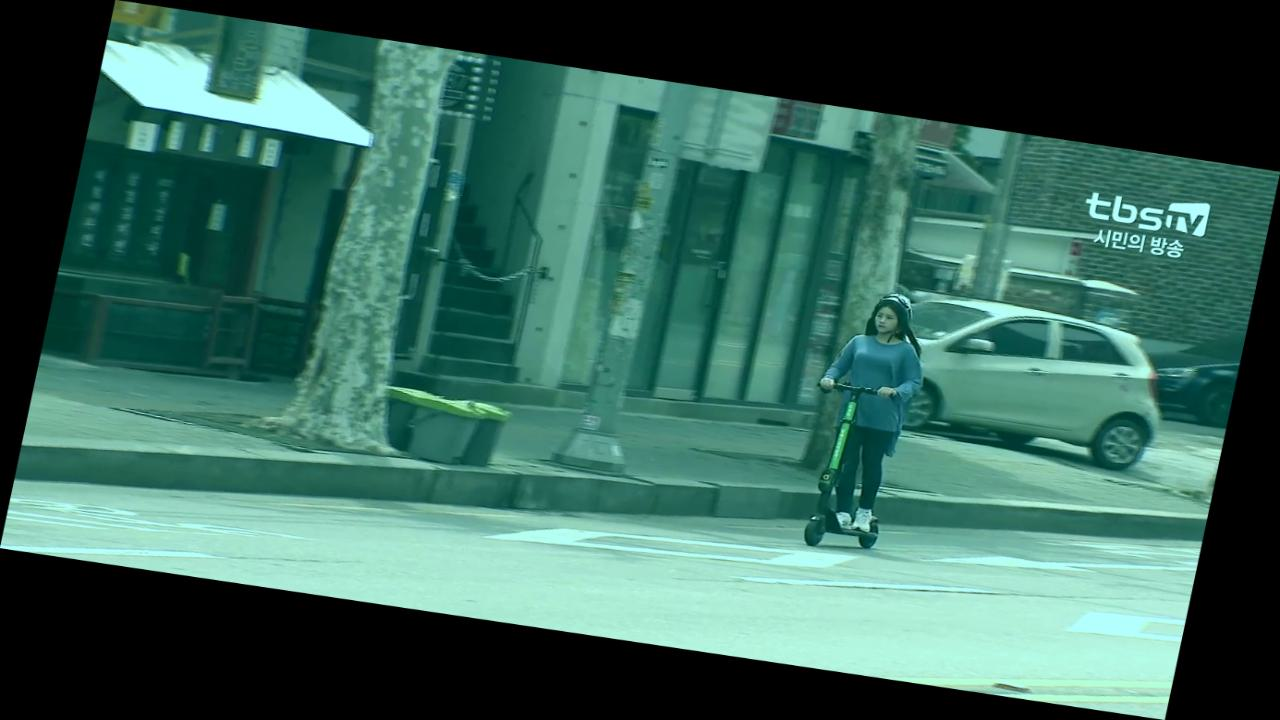helmet: (784, 282, 943, 558)
